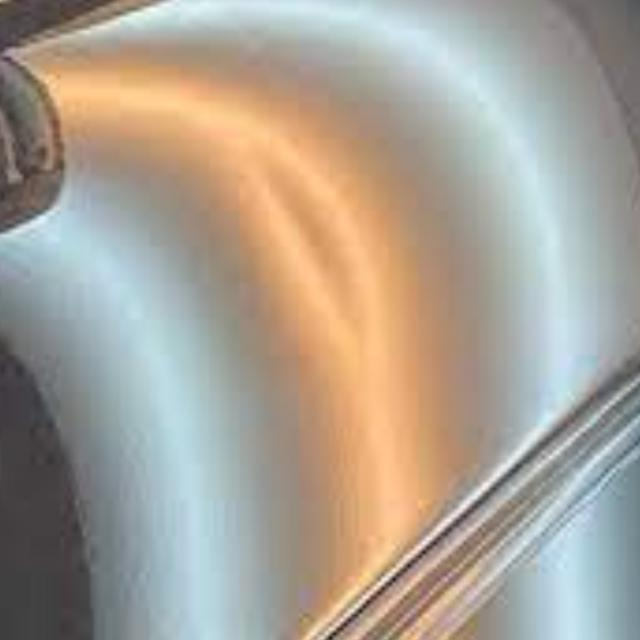dents: (232, 146, 394, 350)
